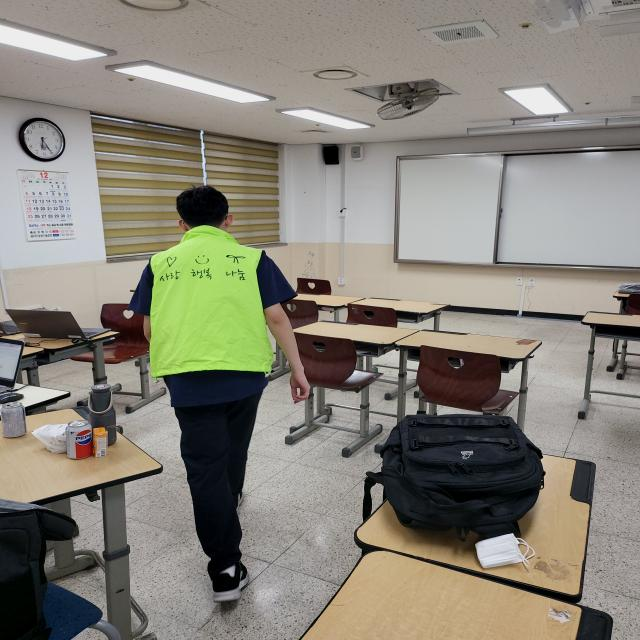weston_spy: (129, 216, 302, 397)
